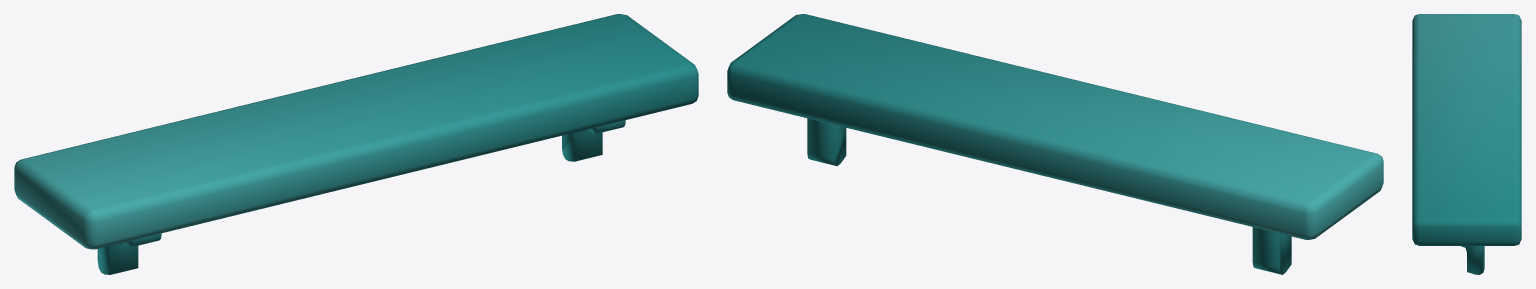
The model's file is Shelf_4.fbx.
The picture shows the model from 3 angles, left to right: view 1: azimuth 30°, elevation 25°; view 2: azimuth 150°, elevation 25°; view 3: azimuth 270°, elevation 25°; orthographic projection. The views are drawn at different scales.
Parts seen in each view (by area): view 1: Shelf_4; view 2: Shelf_4; view 3: Shelf_4.
Boxes of the visible parts, box(x1,y1,x2,y2) form: Shelf_4: box(14, 14, 698, 274); Shelf_4: box(727, 14, 1383, 274); Shelf_4: box(1412, 14, 1521, 274).
Size of the model in its own units: 1.16 by 0.194 by 0.2556.
Materials: 1 (1 with a texture image).
